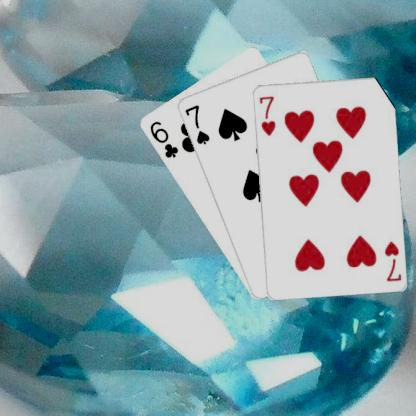6C: (146, 118, 180, 160)
7H: (382, 238, 402, 283), (256, 93, 276, 137)
7S: (182, 102, 210, 145)
